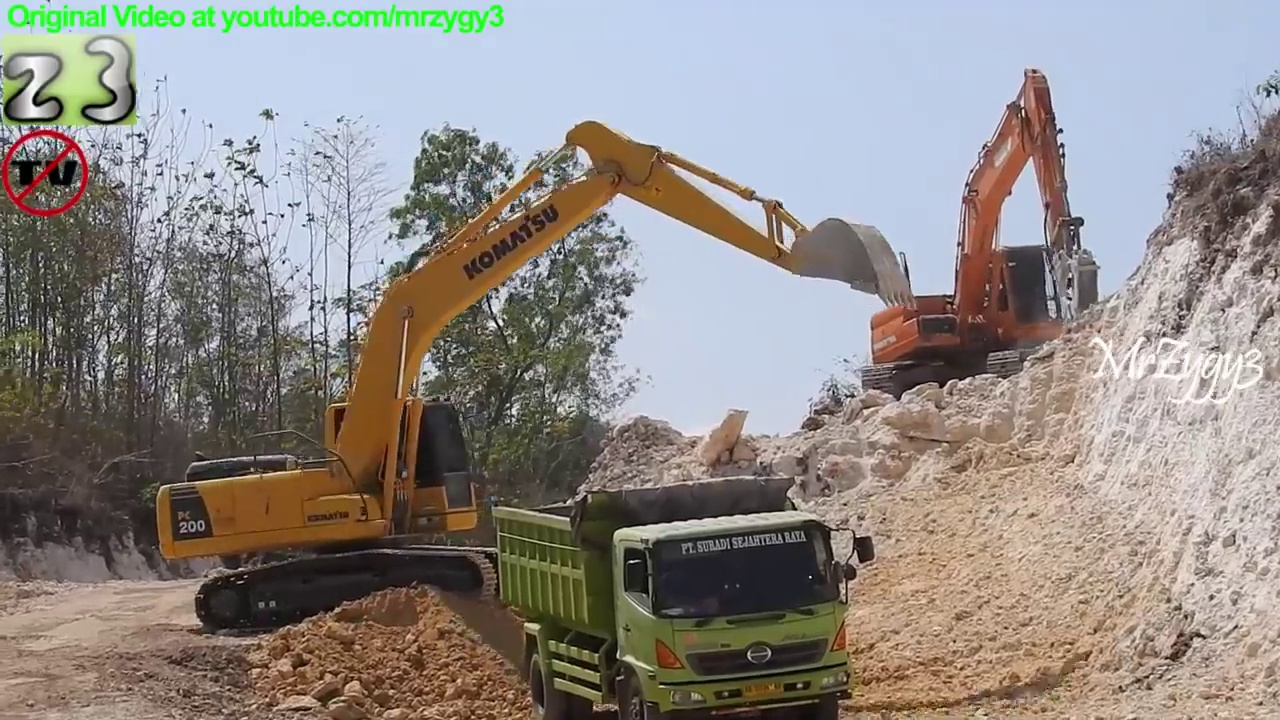excavator: (153, 116, 922, 640), (855, 62, 1117, 409)
truck: (489, 472, 880, 720)
